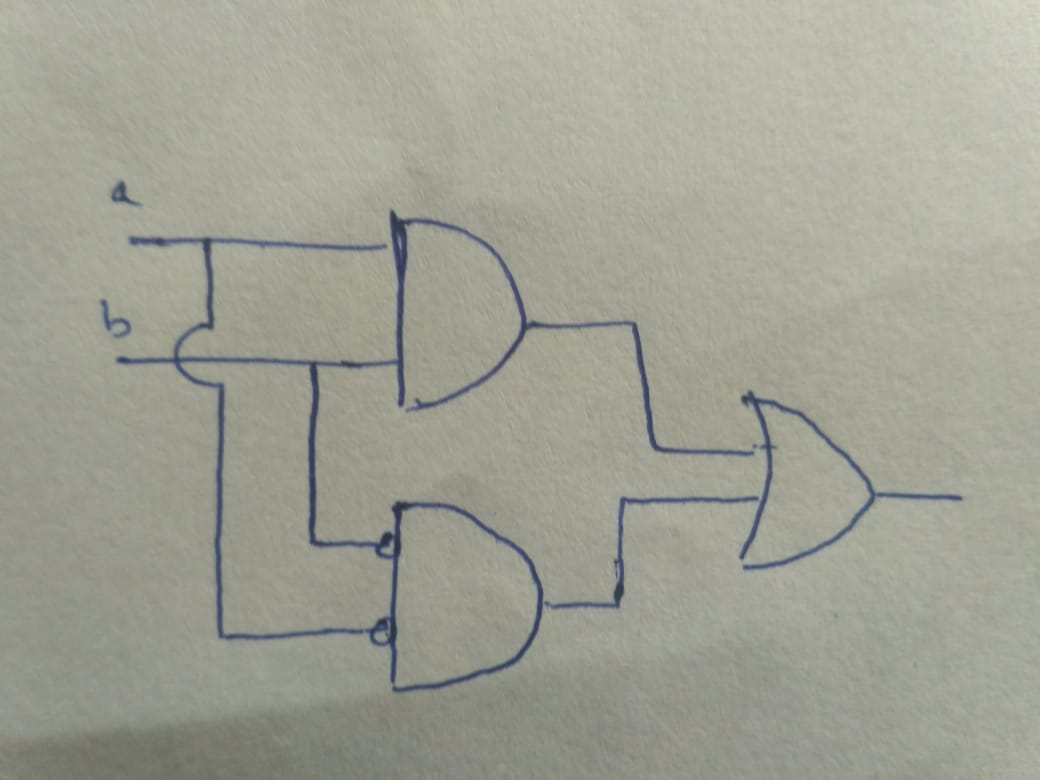and: (336, 183, 562, 456), (358, 487, 567, 705)
or: (711, 358, 901, 600)
